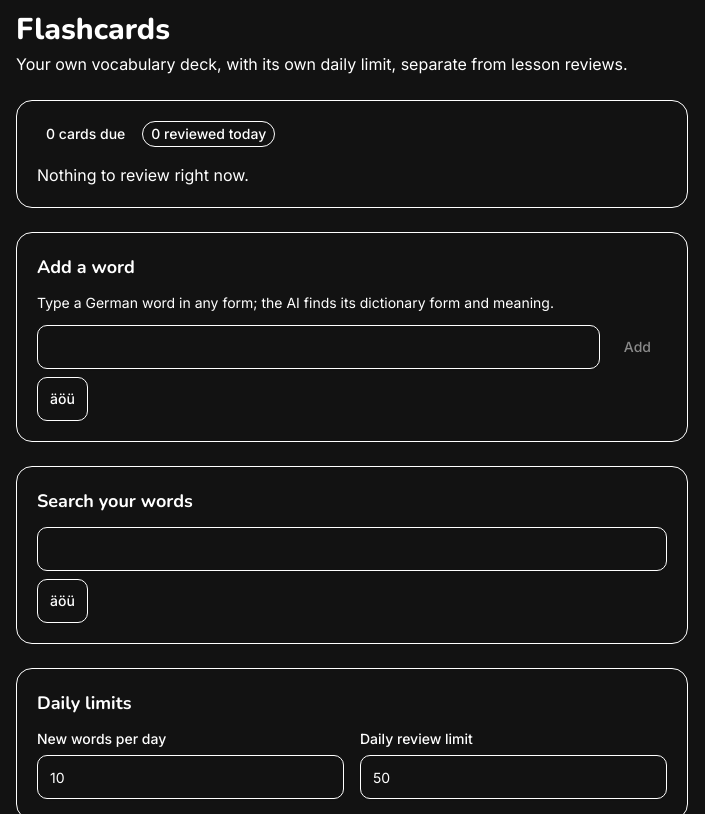
DeckPage › adds a word and shows duplicates inline
The image size is (705, 814).
Step 1. Type "Hund" into the field labelled "Add a word" → {"x": 318, "y": 347}, box [37, 325, 600, 369]
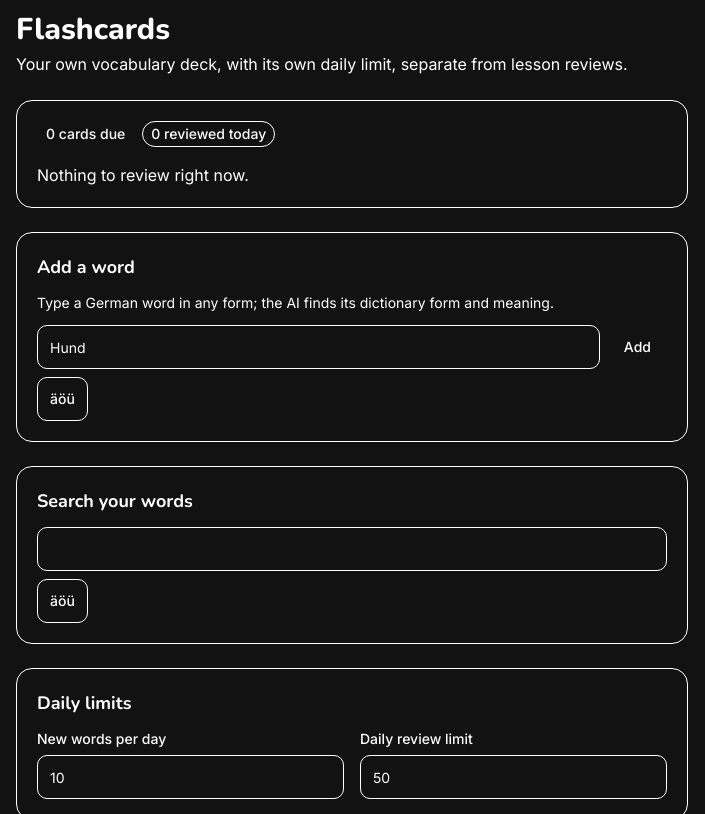
Step 2. Click the button "Add" → {"x": 637, "y": 347}, box [608, 325, 667, 369]
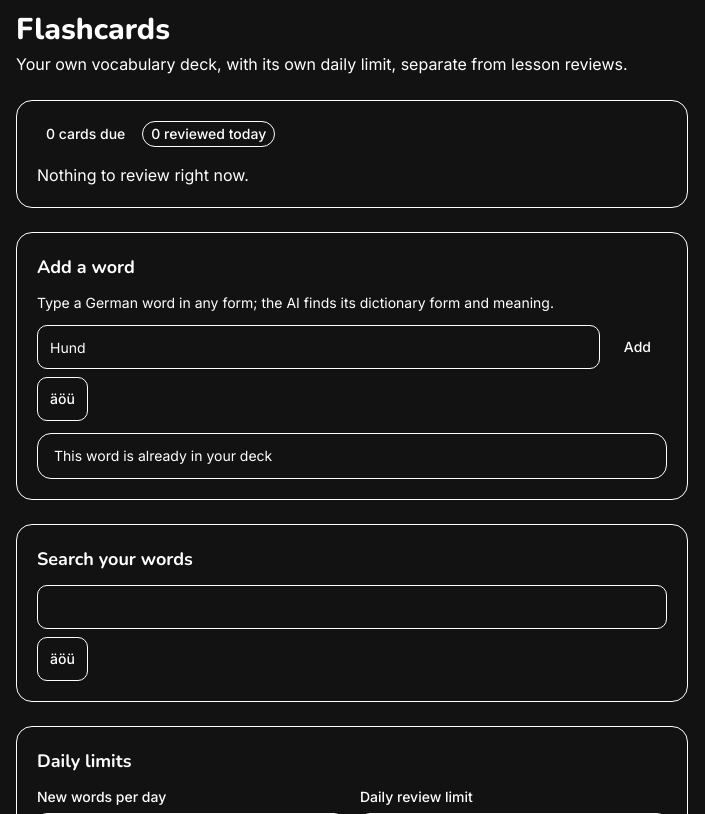
Expected: the text "Nothing to review right now." is shown, [37, 165, 249, 185]
Now the message reads "This word is already in your deck", box [54, 447, 272, 464]
